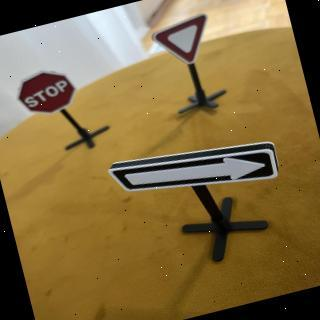sign_oneway_right: (106, 124, 284, 219)
sign_stop: (10, 61, 84, 124)
sign_yield: (148, 10, 221, 75)
